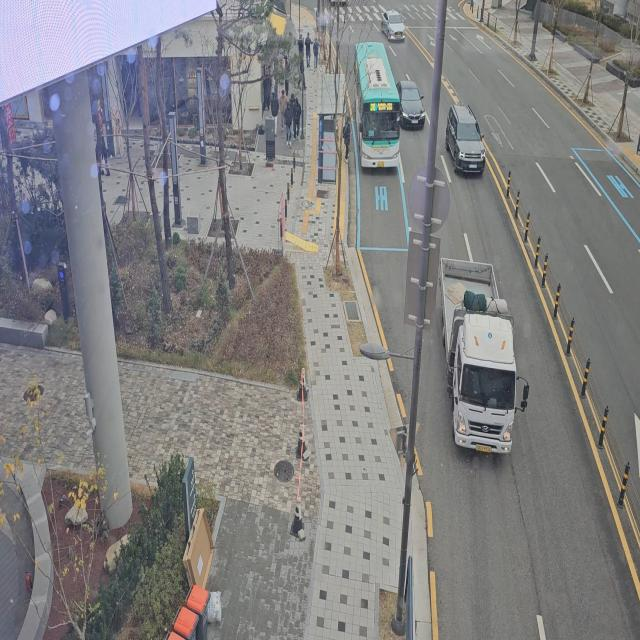Bus: (352, 34, 403, 180)
Car: (446, 94, 488, 184), (396, 70, 433, 138), (380, 0, 412, 44)
Truck: (433, 243, 529, 472)
